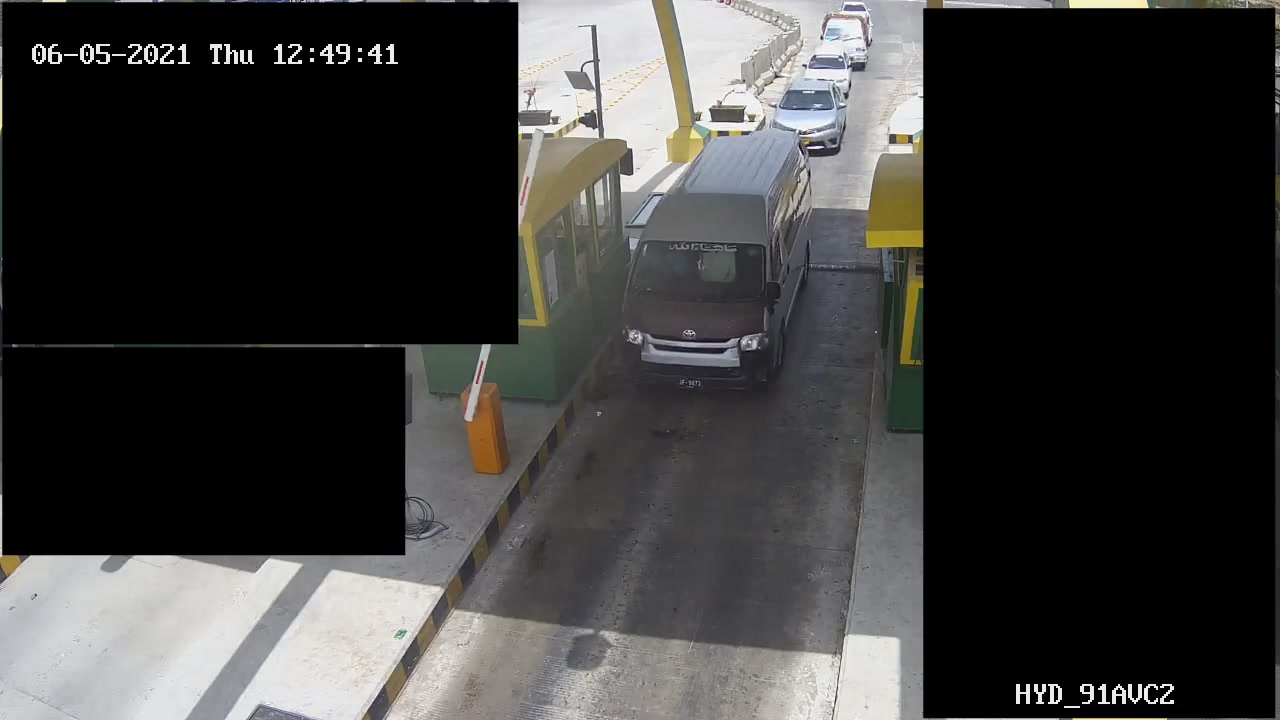F2: (619, 129, 819, 396)
